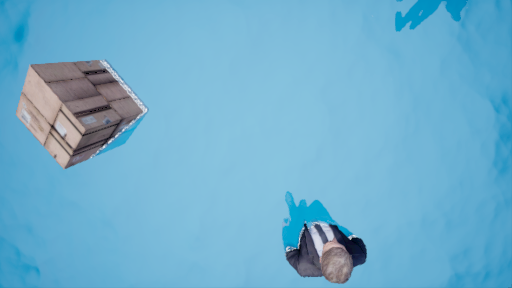person: (276, 192, 377, 280)
